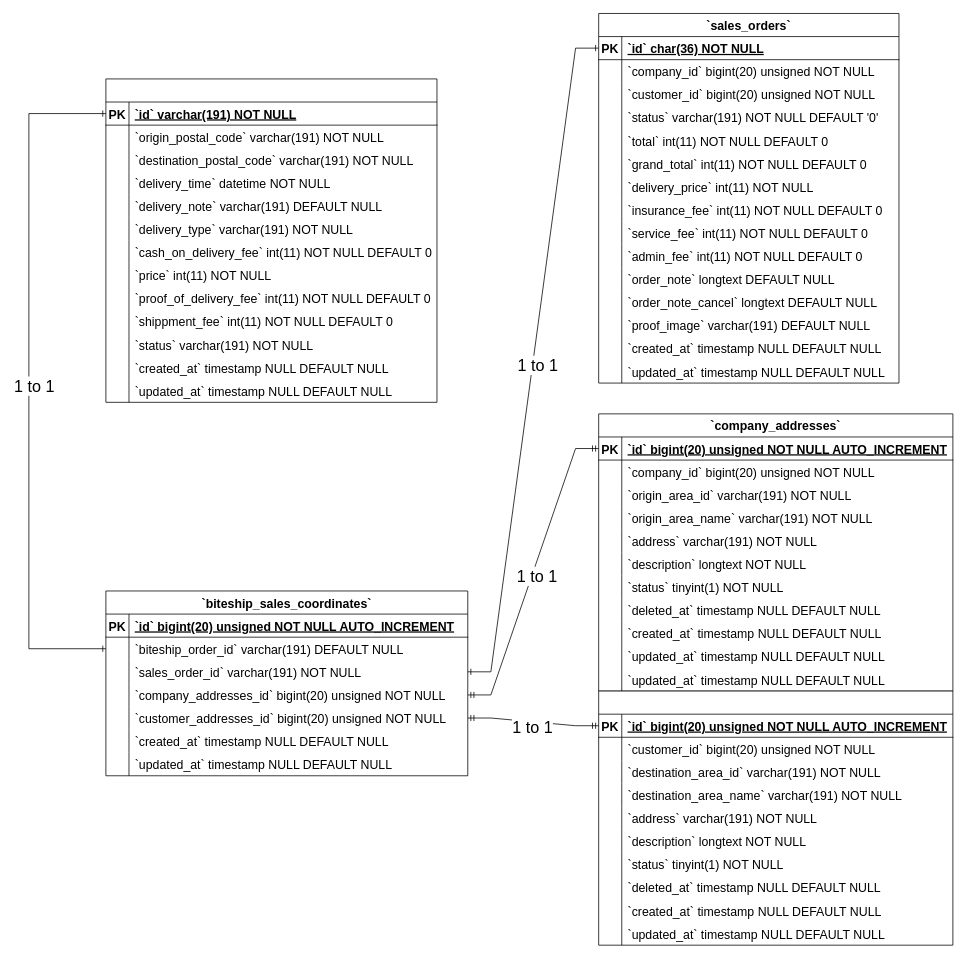
The diagram is 966 pixels wide and 959 high, and some of its shapes have lost their labels. The box of each missing label's shape, as (x1, y1, x2, y2) in pixels:
`biteship_orders`: (105, 78, 437, 402)
`customer_addresses`: (598, 690, 953, 945)
